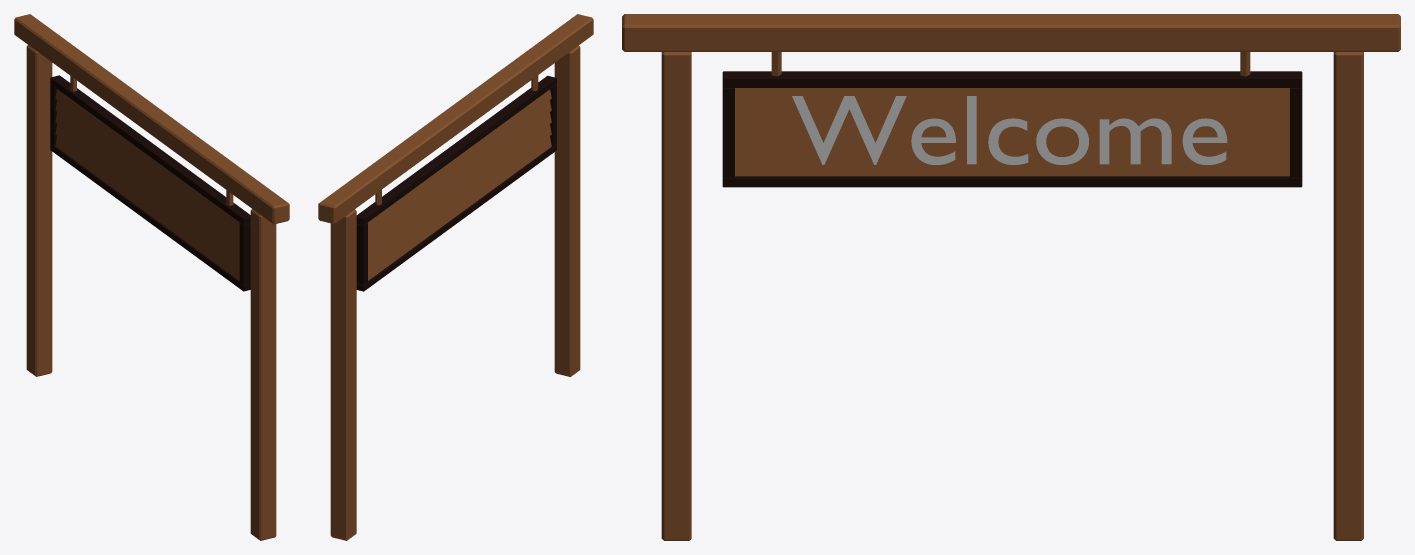
Rendered from welcome_placa.obj.
3 views of the same model, side by side, from view 1: azimuth 30°, elevation 25°; view 2: azimuth 150°, elevation 25°; view 3: azimuth 270°, elevation 25° (orthographic). The views are drawn at different scales.
Parts seen in each view (by area): view 1: Welcome_Sign; view 2: Welcome_Sign; view 3: Welcome_Sign, Texto.
Boxes of the visible parts, x1,y1,x2,y2 form: Welcome_Sign: [14, 14, 289, 540]; Welcome_Sign: [318, 14, 593, 540]; Welcome_Sign: [622, 14, 1400, 540]; Texto: [792, 96, 1227, 164].
Bounding box in the file's own units: 0.2731 × 5.17 × 7.06.
